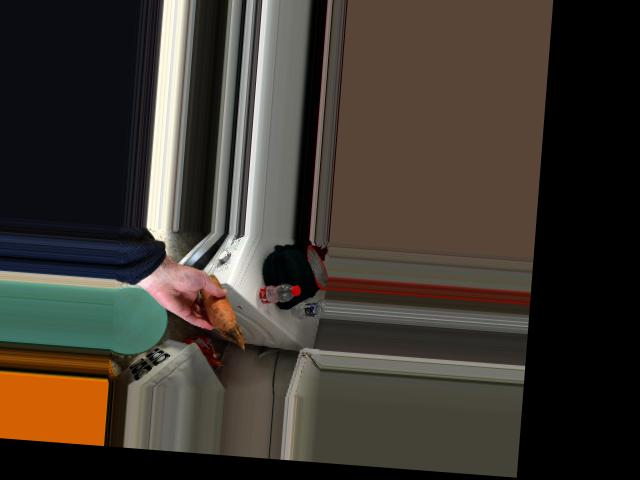sweet_potato: (192, 280, 240, 329)
